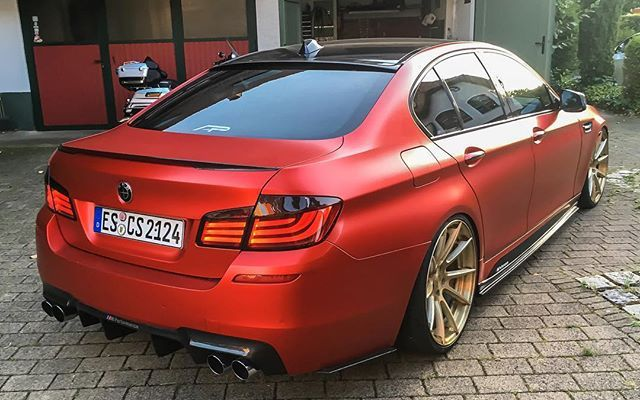bmw: (29, 26, 615, 387)
